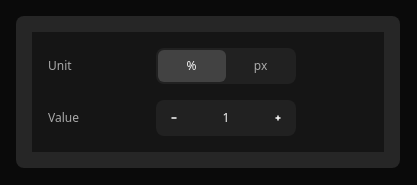
Scenario: App › validates and formats input on blur
# Enter invalid input
Replace the text in the field with "a123" at (226, 118), box x1=200 y1=108 x2=252 y2=128
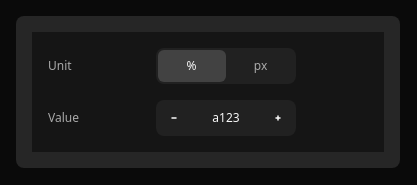
Leave the field, box x1=200 y1=108 x2=252 y2=128
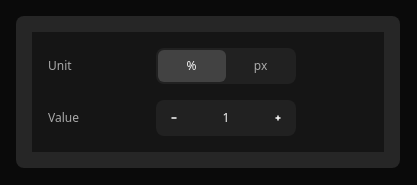
Expected: the field holds "1", x1=200 y1=108 x2=252 y2=128
